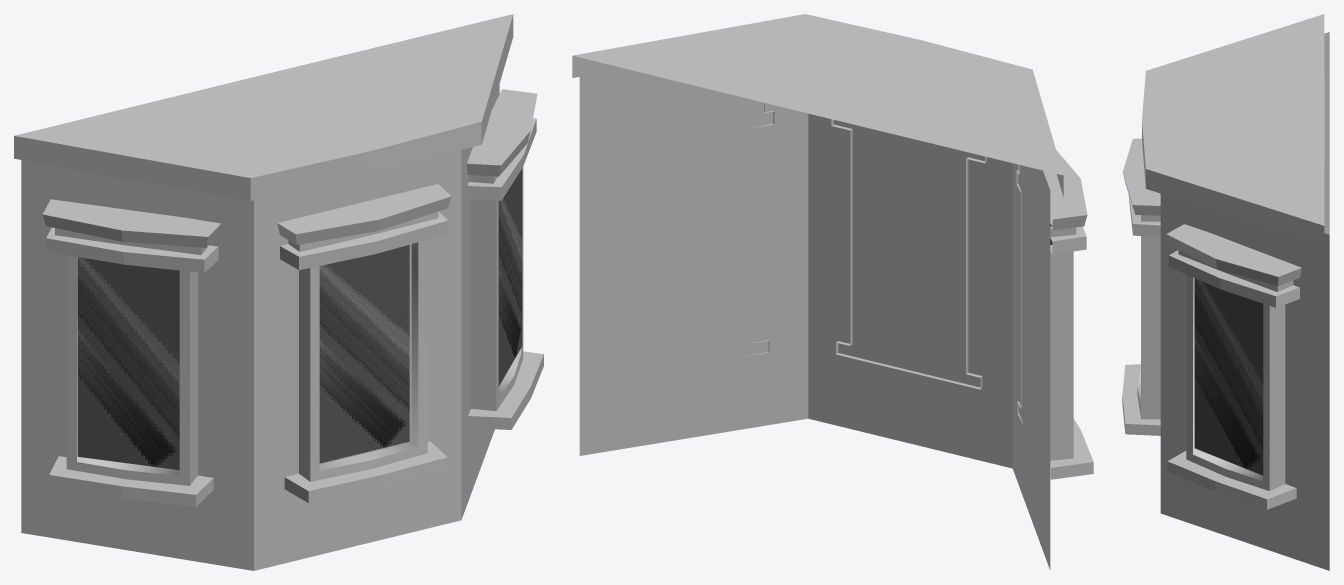
File: bay_window.FBX
3 views of the same model, side by side, from view 1: azimuth 30°, elevation 25°; view 2: azimuth 150°, elevation 25°; view 3: azimuth 270°, elevation 25° (orthographic). The views are drawn at different scales.
Parts seen in each view (by area): view 1: frame, glass002, glass003, glass004; view 2: frame; view 3: frame, glass004.
Part boxes in pixels (x1=…): frame: x1=14, y1=14, x2=543, y2=570; glass002: x1=77, y1=257, x2=179, y2=470; glass003: x1=319, y1=244, x2=409, y2=463; glass004: x1=498, y1=169, x2=522, y2=386; frame: x1=572, y1=14, x2=1093, y2=569; frame: x1=1122, y1=14, x2=1329, y2=570; glass004: x1=1194, y1=278, x2=1263, y2=475.
Size of the model in its own units: 3.97 by 3.06 by 1.64.
